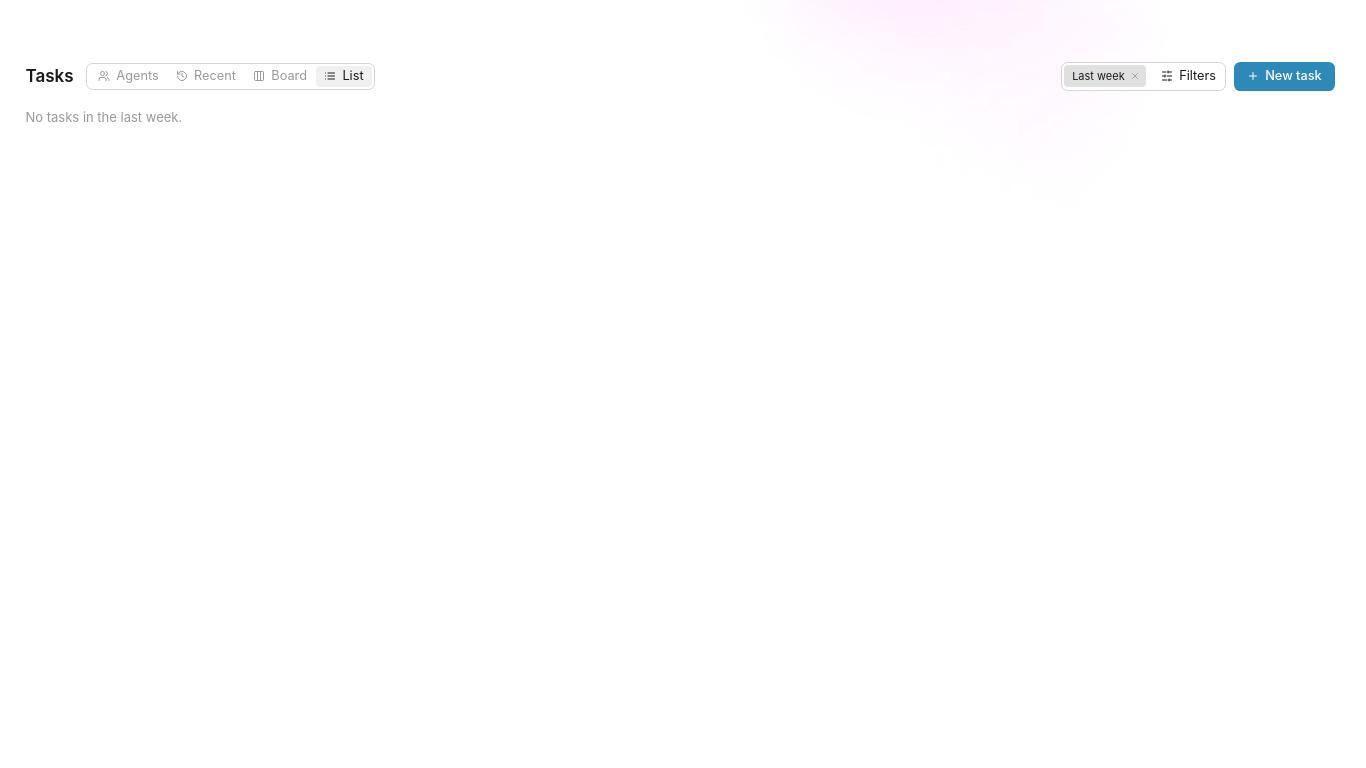
list › names the period, not a match, when only the period leaves nothing
Expected: the text "No tasks in the last week." is shown, [26,109,182,125]
Click the button "Filters". click: (1188, 76)
box: [1152,62,1225,90]
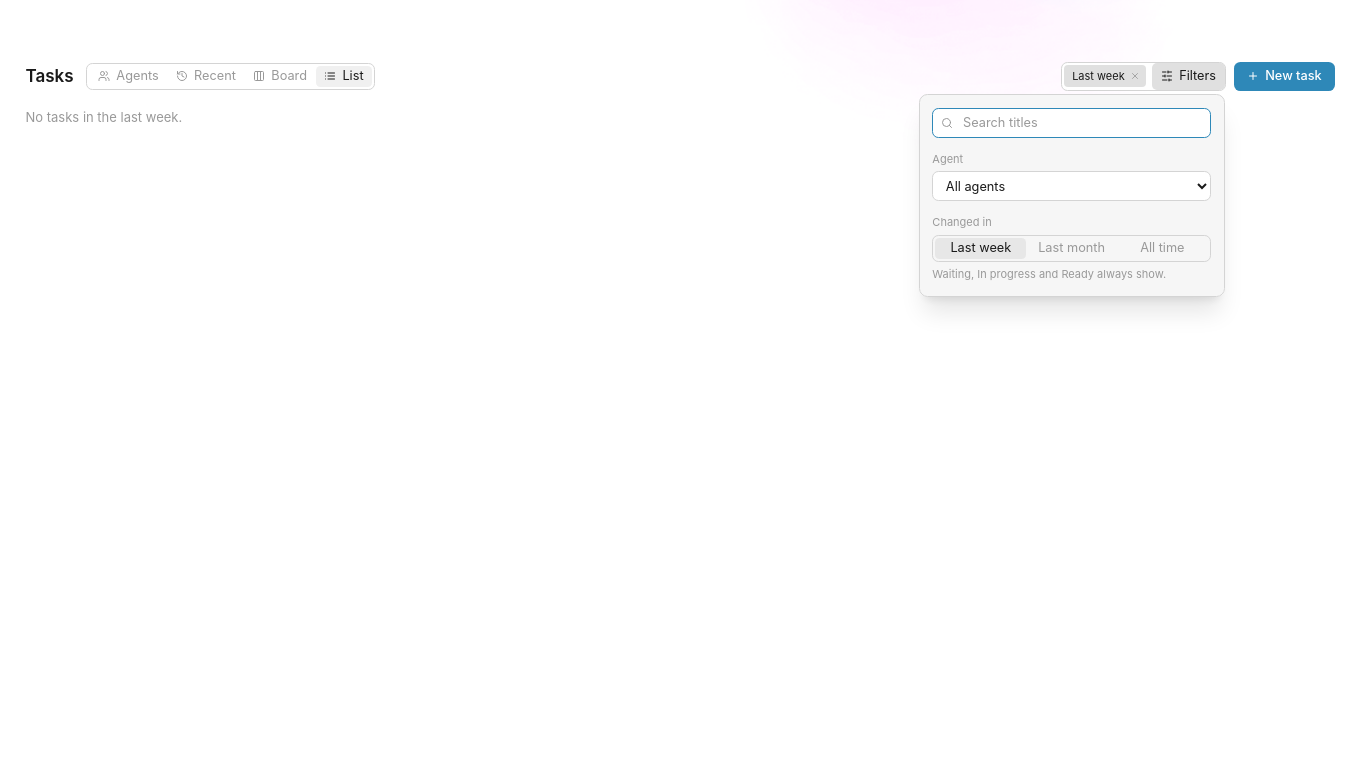
Click the radio button labelled "Last month". click: (1072, 248)
box: [1026,238,1117,259]
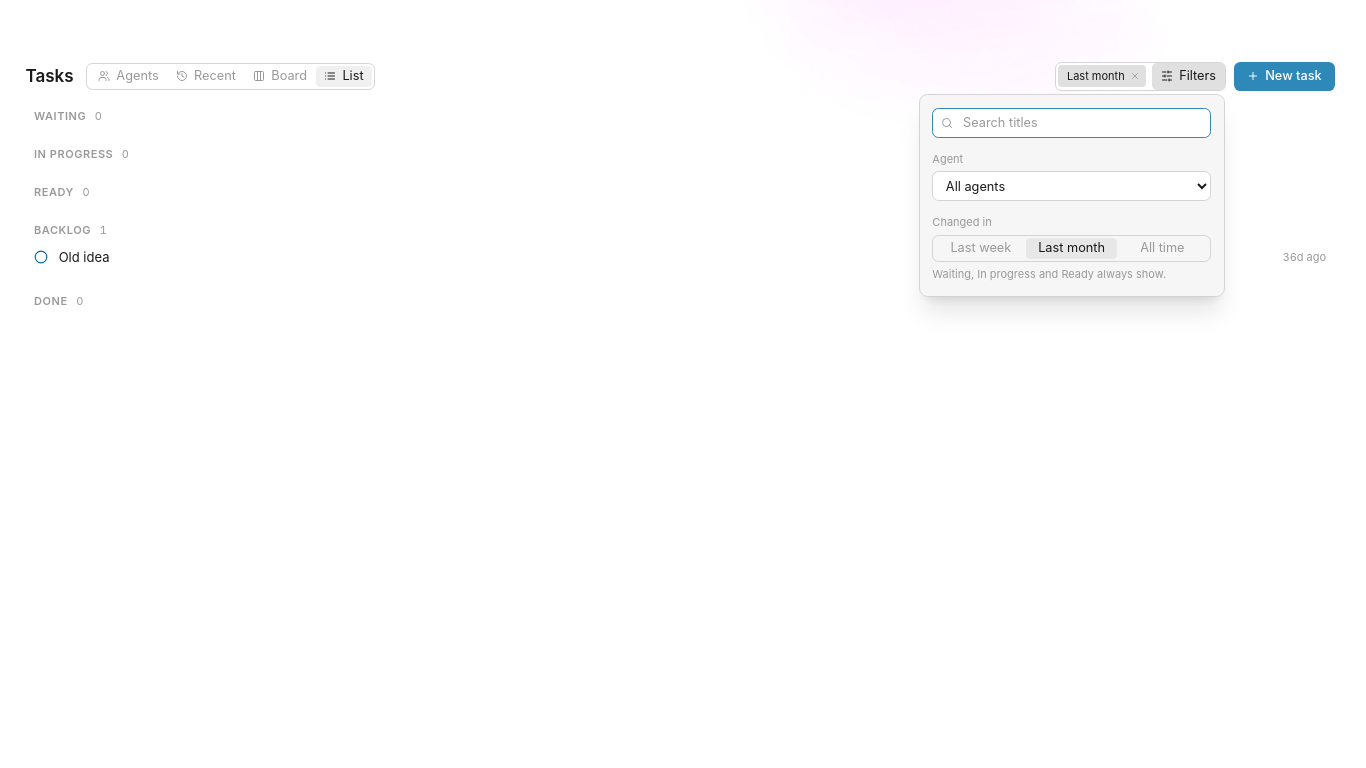
Result: the button "Old idea 36d ago" is shown at [26,242,1334,272]
